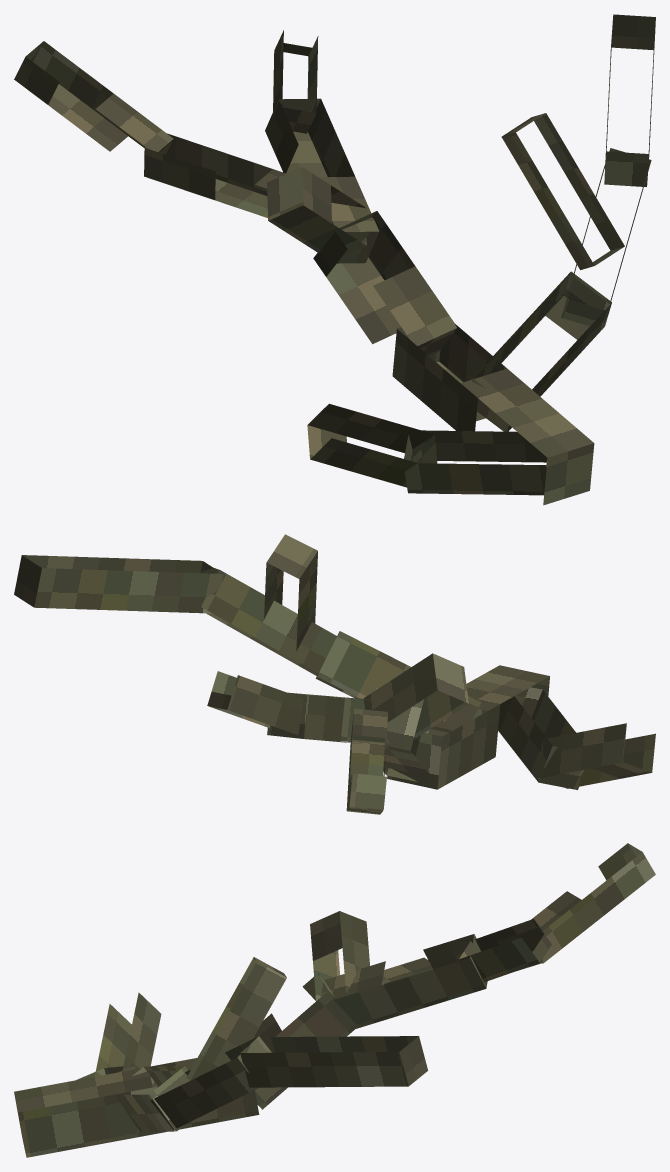
Rendered from maple_twig_branch_up.obj.
The picture shows the model from 3 angles, top to bottom: view 1: azimuth 30°, elevation 25°; view 2: azimuth 150°, elevation 25°; view 3: azimuth 270°, elevation 25°; orthographic projection. The views are drawn at different scales.
Visible parts, largest first — view 1: cube; view 2: cube; view 3: cube.
Part boxes in pixels (x1,y1,x2,y2): cube: (14,14,655,505); cube: (14,534,655,814); cube: (14,843,655,1157).
Bounding box in the file's own units: 2.39 × 1.2 × 2.93.
